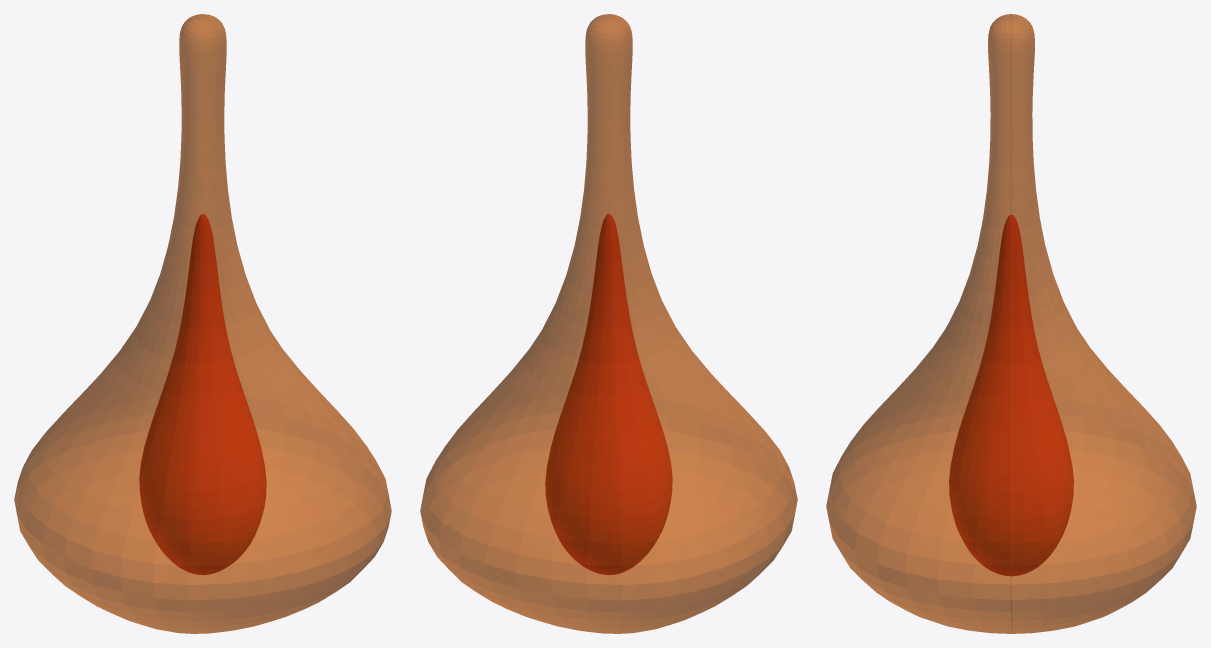
File: fiamma.obj
The picture shows the model from 3 angles, left to right: view 1: azimuth 30°, elevation 25°; view 2: azimuth 150°, elevation 25°; view 3: azimuth 270°, elevation 25°; orthographic projection.
Visible parts, largest first — view 1: Cube, Cube.001; view 2: Cube, Cube.001; view 3: Cube, Cube.001.
Boxes of the visible parts, x1=… form: Cube: x1=14, y1=14, x2=391, y2=633; Cube.001: x1=139, y1=214, x2=266, y2=575; Cube: x1=420, y1=14, x2=797, y2=633; Cube.001: x1=545, y1=214, x2=672, y2=575; Cube: x1=826, y1=14, x2=1196, y2=633; Cube.001: x1=949, y1=215, x2=1073, y2=576.
Size of the model in its own units: 4.78 by 8.57 by 4.78.
